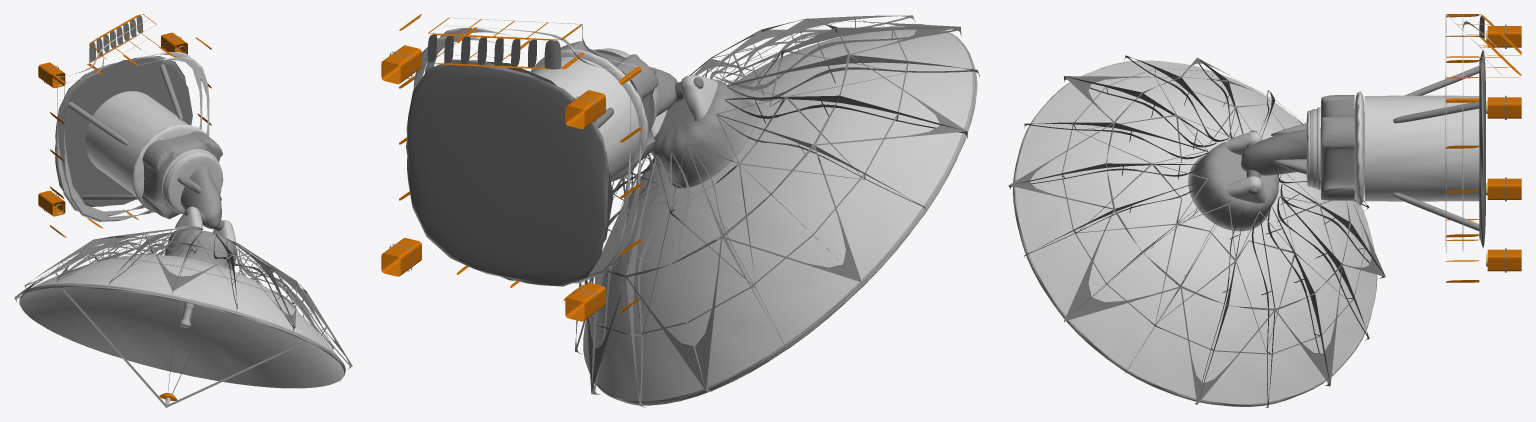
Rendered from Cassegrain.fbx.
3 views of the same model, side by side, from view 1: azimuth 30°, elevation 25°; view 2: azimuth 150°, elevation 25°; view 3: azimuth 270°, elevation 25° (orthographic). The views are drawn at different scales.
Parts seen in each view (by area): view 1: Cassegrain:Mesh; view 2: Cassegrain:Mesh; view 3: Cassegrain:Mesh.
Part boxes in pixels (bbox=[...]): Cassegrain:Mesh: bbox=[14, 14, 352, 407]; Cassegrain:Mesh: bbox=[381, 14, 979, 407]; Cassegrain:Mesh: bbox=[1008, 14, 1521, 407].
Size of the model in its own units: 10.66 by 11.46 by 15.21.
